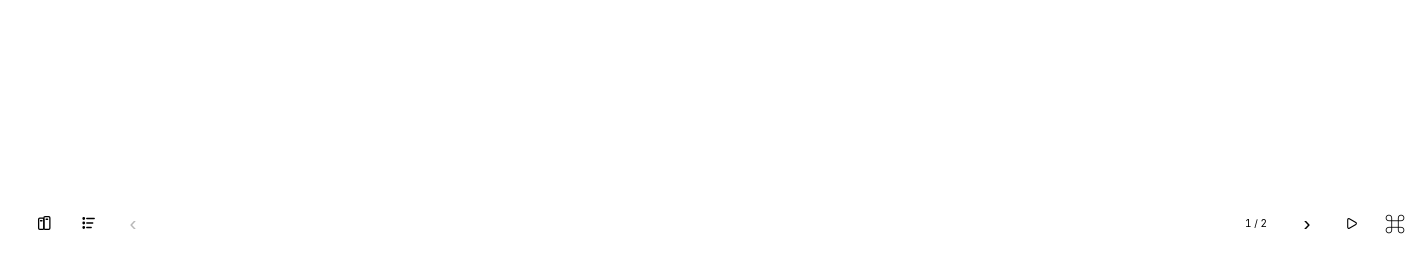
Test: 目录弹层默认展示章节，可切到书签视图
This screenshot has width=1422, height=259.
What coordinates should you click on to do the following:
click the button named "目录"
I would click on:
 (89, 223)
Its box is [72, 206, 106, 240].
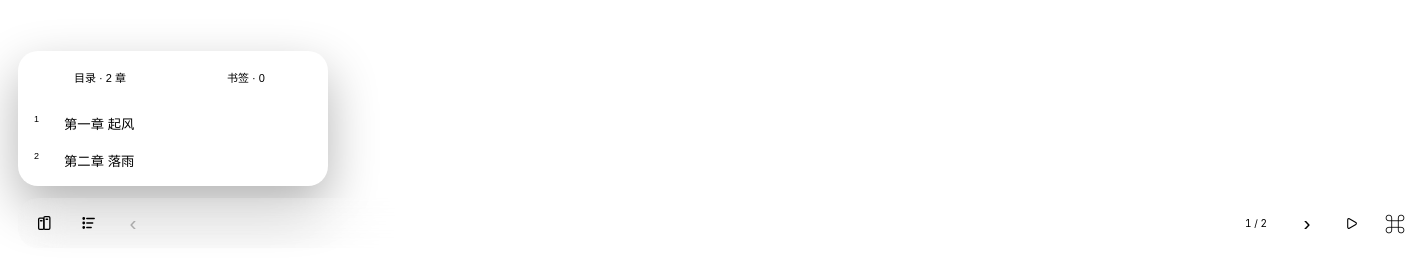
Expected: the button "目录 · 2 章" is shown, [30, 62, 170, 92]
What coordinates should you click on to do the following:
click the button "书签 · 0"
I would click on:
 (246, 77)
Its box is [176, 62, 316, 92].
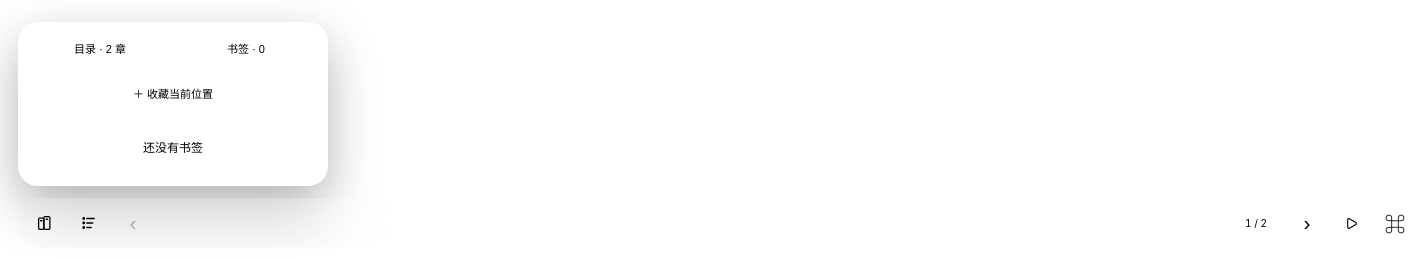
Expected: the button "＋ 收藏当前位置" is shown, [25, 76, 321, 110]
Expected: the text "还没有书签" is shown, [143, 140, 203, 155]
